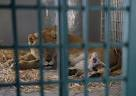lion: (26, 27, 120, 87)
